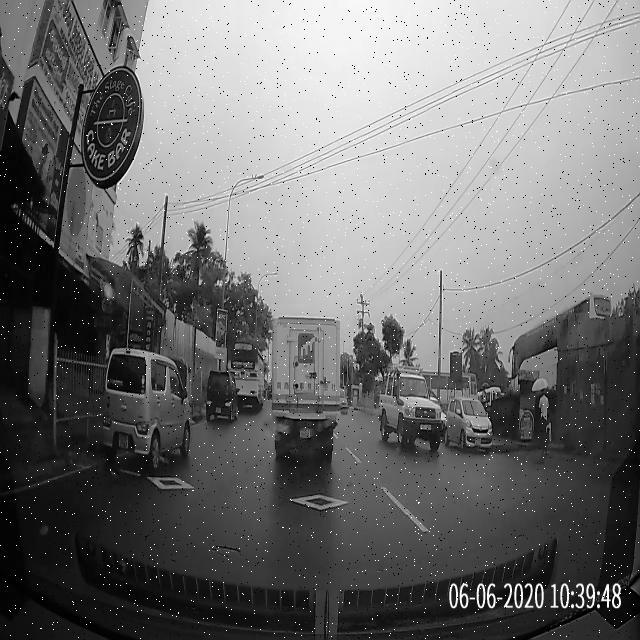diamond: (225, 487, 407, 518)
